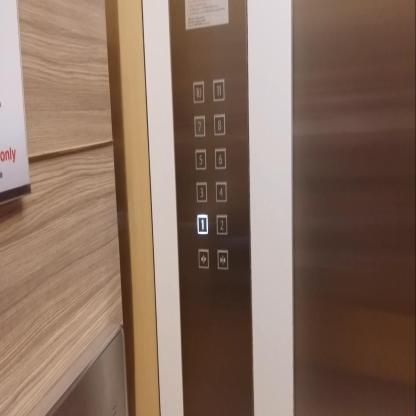1: (196, 212, 209, 236)
10: (193, 81, 204, 103)
11: (213, 78, 225, 102)
2: (216, 214, 228, 236)
3: (196, 181, 207, 203)
4: (215, 182, 227, 203)
5: (195, 148, 207, 170)
6: (214, 147, 226, 170)
7: (194, 115, 205, 137)
8: (214, 113, 225, 136)
close: (217, 249, 228, 270)
open: (198, 248, 209, 269)
